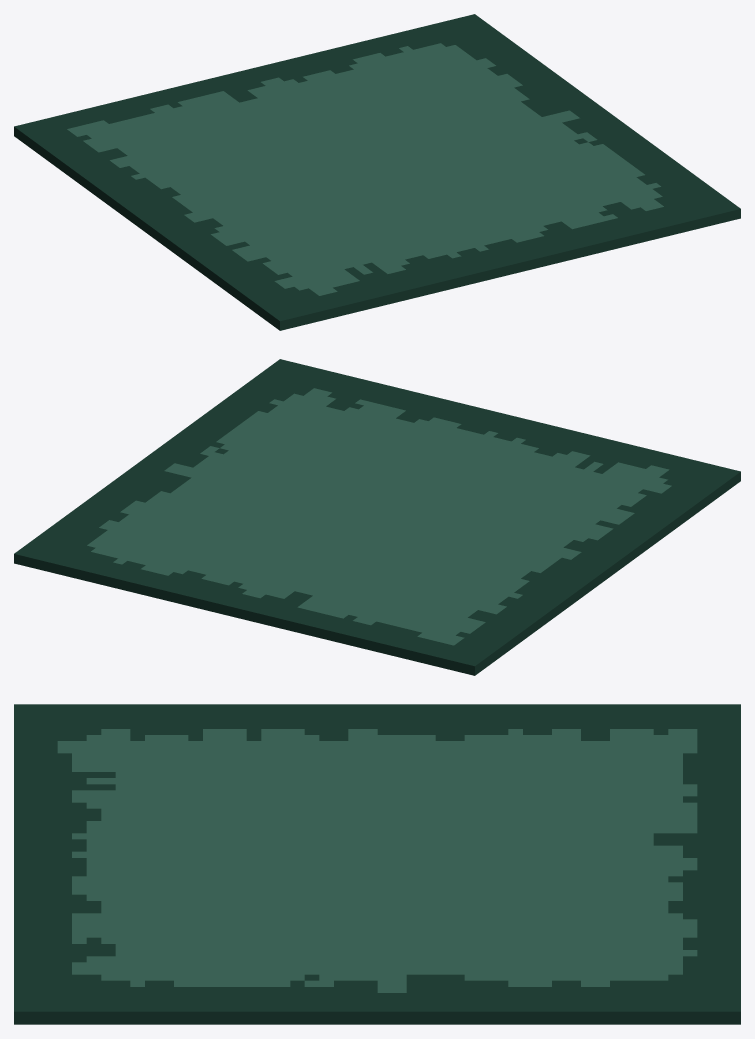
The model's file is MiddleGround.obj.
3 views of the same model, one above another, from view 1: azimuth 30°, elevation 25°; view 2: azimuth 150°, elevation 25°; view 3: azimuth 270°, elevation 25° (orthographic). The views are drawn at different scales.
Bounding box in the file's own units: 5 × 0.1 × 5.
Materials: 1 (1 with a texture image).
